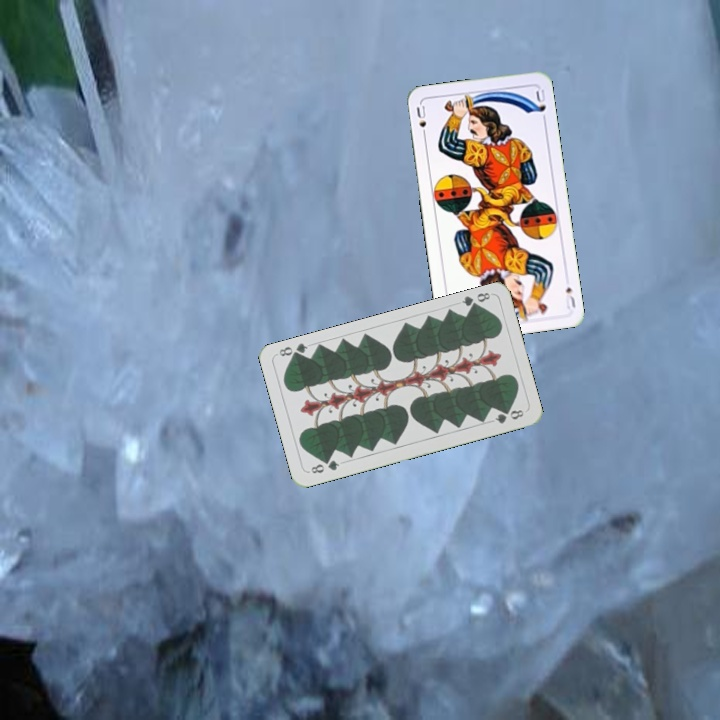G8: (458, 288, 493, 313), (305, 456, 342, 476)
SU: (412, 101, 431, 141), (561, 283, 578, 311)
